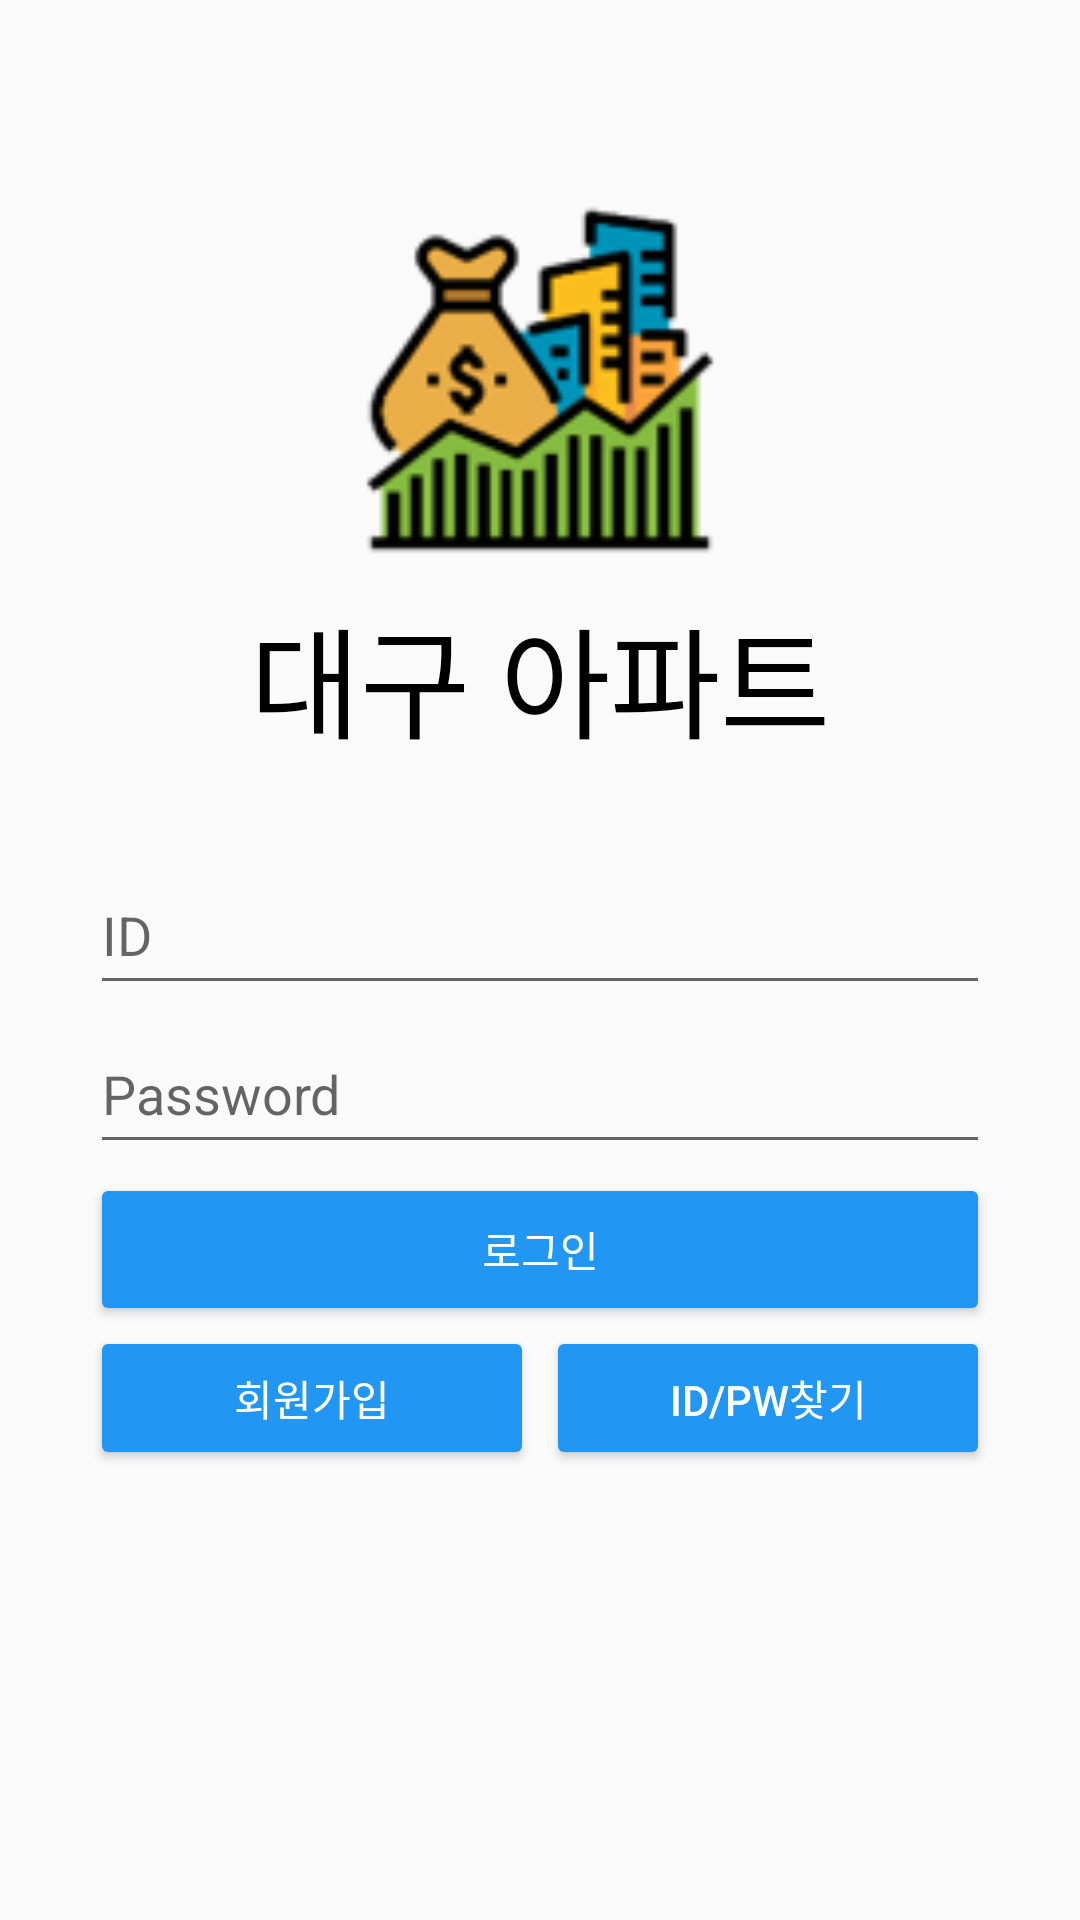

Named icons in this screenshot (1080 × 1920) and their centers, [x,y]:
mainicon: [540,380]
